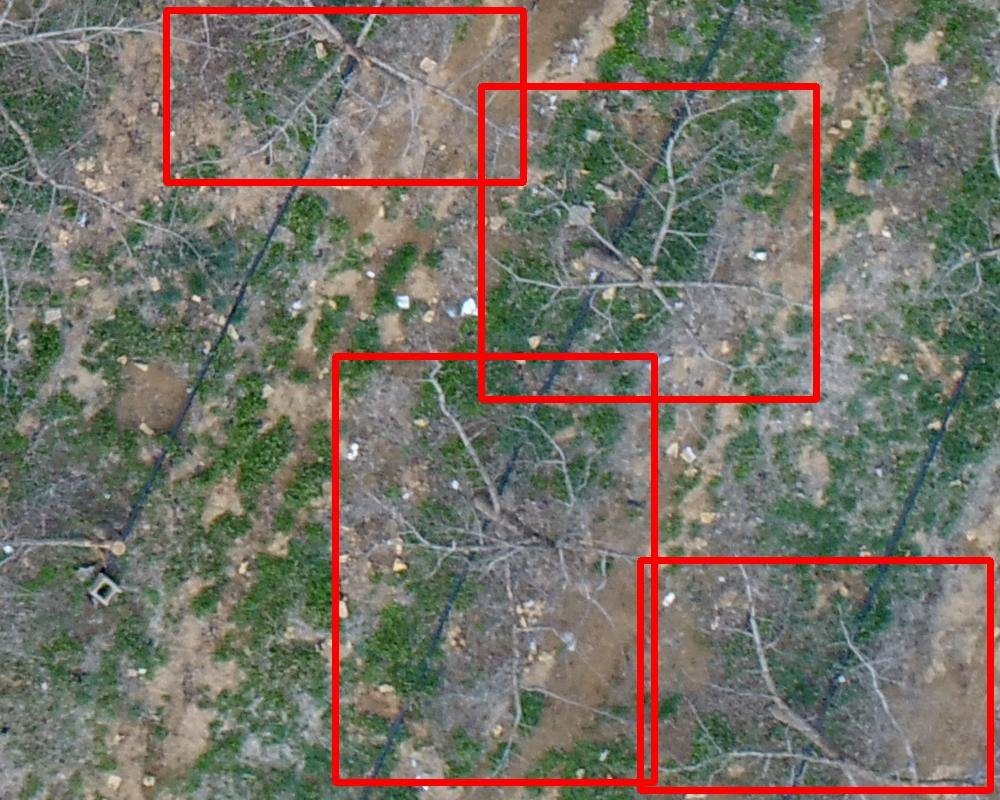apple: (335, 356, 654, 782), (481, 86, 816, 399), (640, 560, 990, 790), (166, 10, 523, 182)
